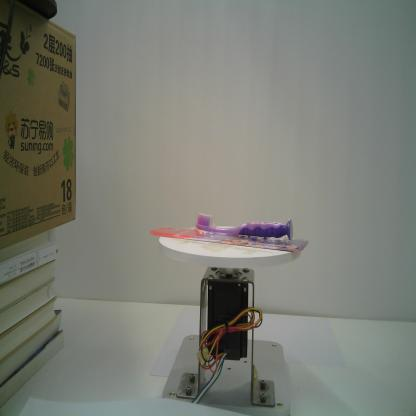Personal Hygiene: (150, 212, 309, 252)
